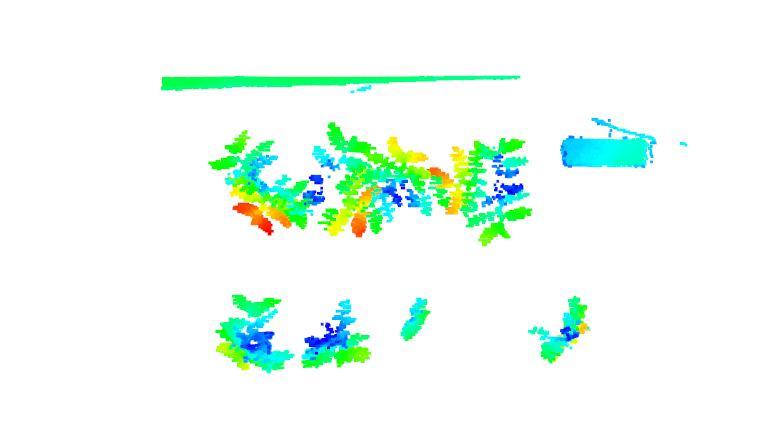chickpea: (431, 126, 547, 250), (204, 127, 311, 241), (212, 286, 295, 378), (315, 125, 382, 238), (356, 129, 432, 218), (299, 295, 372, 371), (526, 294, 592, 361), (402, 296, 436, 343)
